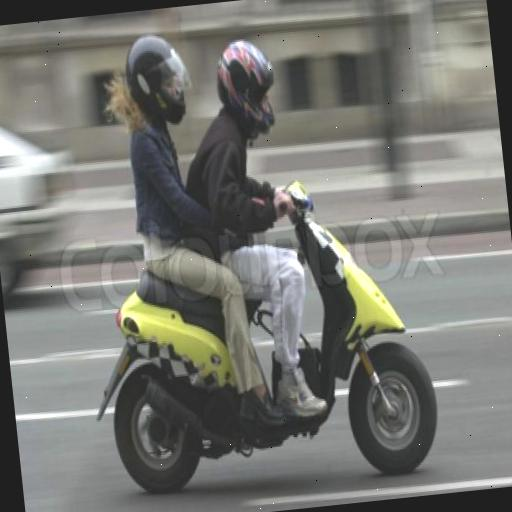helmet: (179, 5, 444, 483)
